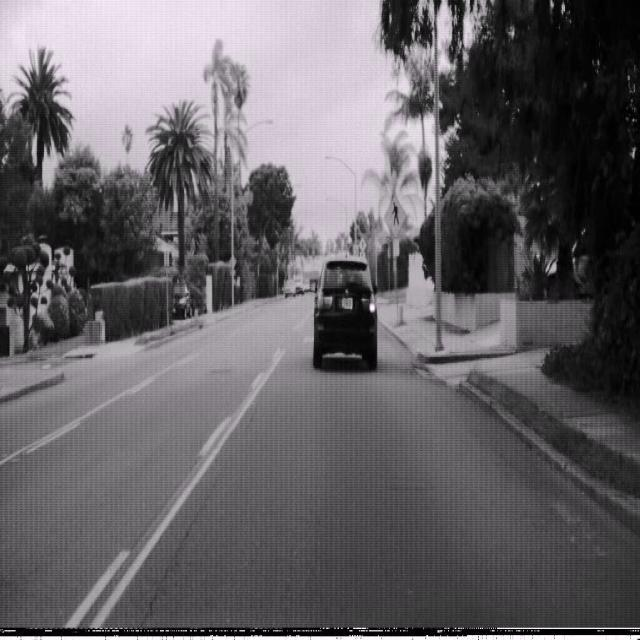pedestrianCrossing: (383, 193, 407, 239)
